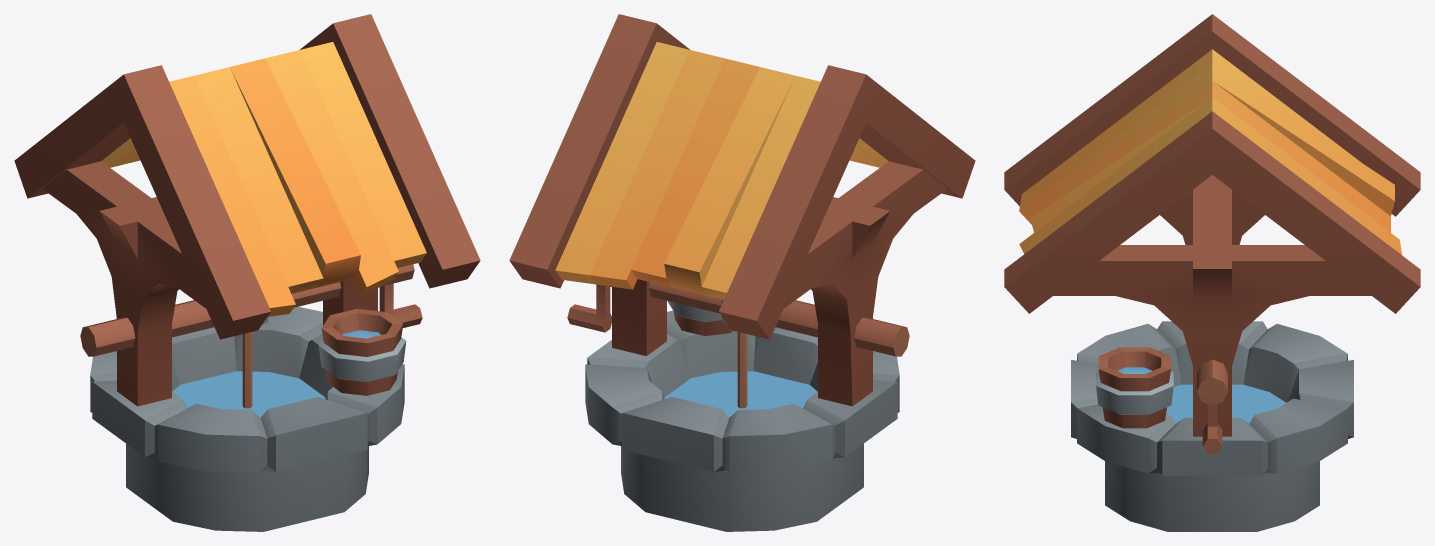
File: building_well_yellow.gltf
3 views of the same model, side by side, from view 1: azimuth 30°, elevation 25°; view 2: azimuth 150°, elevation 25°; view 3: azimuth 270°, elevation 25° (orthographic). The views are drawn at different scales.
Visible parts, largest first — view 1: building_well_yellow; view 2: building_well_yellow; view 3: building_well_yellow.
Boxes of the visible parts, x1,y1,x2,y2 form: building_well_yellow: (14, 14, 480, 531); building_well_yellow: (509, 14, 975, 531); building_well_yellow: (1004, 14, 1420, 531).
Bounding box in the file's own units: 0.6518 × 0.826 × 0.7507.
Materials: 1 (1 with a texture image).
